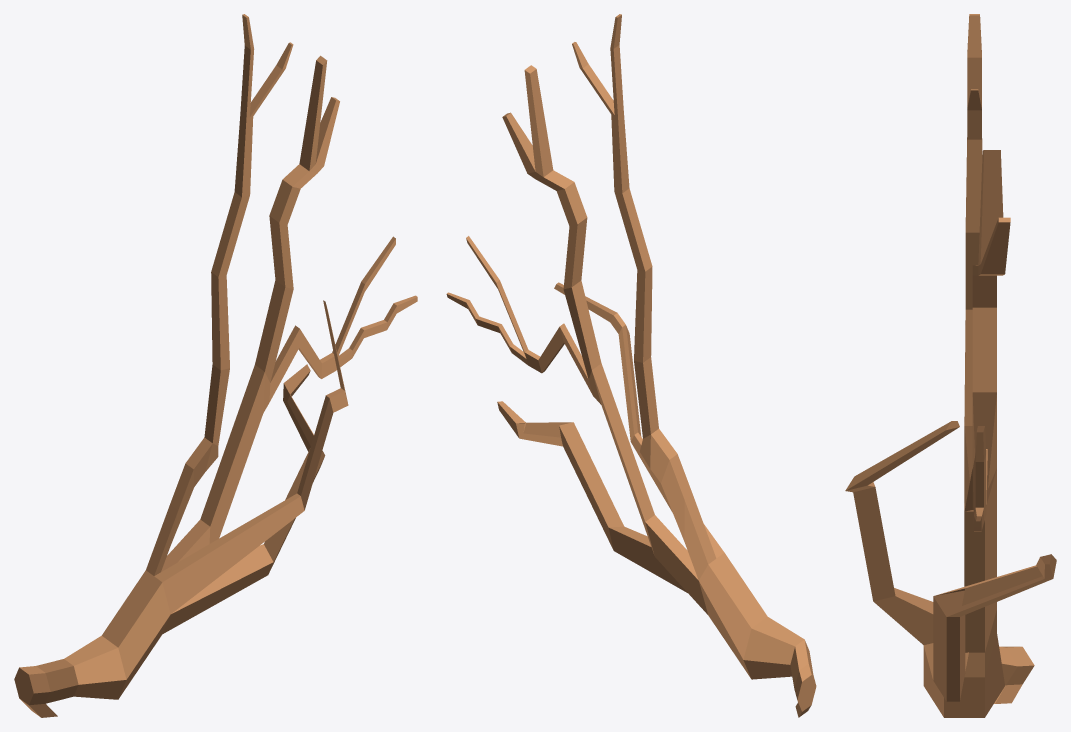
The model's file is 001_ダケカンバver2.fbx.
3 views of the same model, side by side, from view 1: azimuth 30°, elevation 25°; view 2: azimuth 150°, elevation 25°; view 3: azimuth 270°, elevation 25° (orthographic). The views are drawn at different scales.
Visible parts, largest first — view 1: 円柱; view 2: 円柱; view 3: 円柱.
Boxes of the visible parts, x1,y1,x2,y2 form: 円柱: (14, 14, 417, 717); 円柱: (446, 14, 816, 717); 円柱: (845, 14, 1056, 717).
Bounding box in the file's own units: 370 × 612 × 145.
